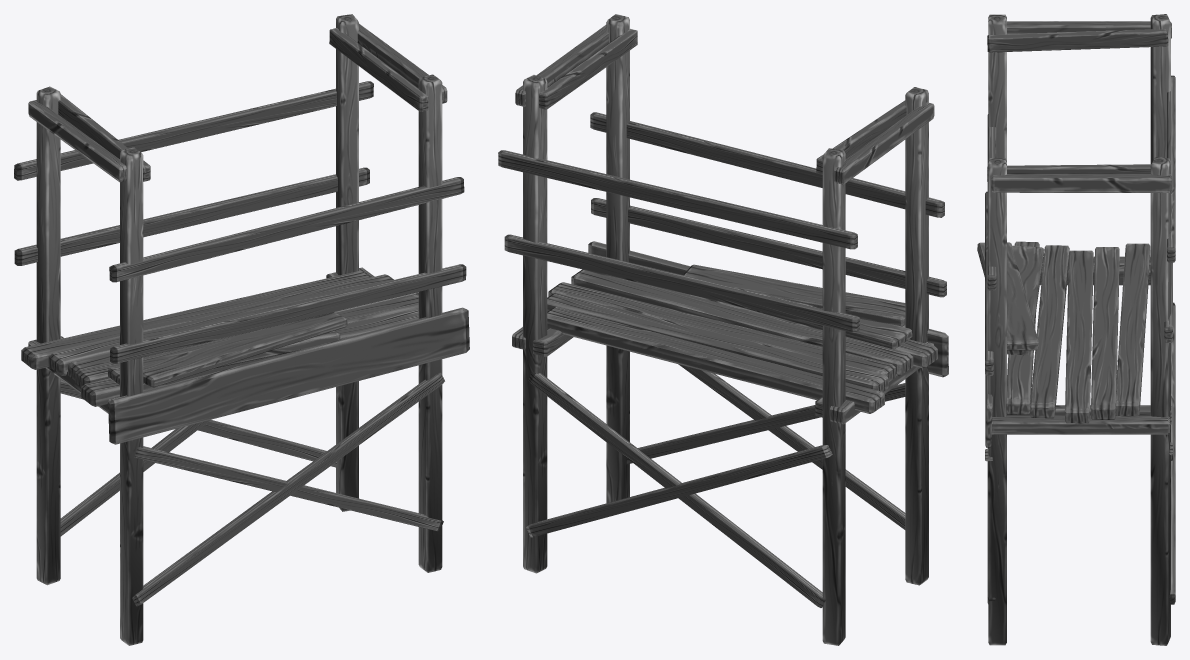
The model's file is SM_Plateforme02.FBX.
3 renders of one model, left to right at view 1: azimuth 30°, elevation 25°; view 2: azimuth 150°, elevation 25°; view 3: azimuth 270°, elevation 25°, orthographic.
Parts seen in each view (by area): view 1: Plateforme02; view 2: Plateforme02; view 3: Plateforme02.
Part boxes in pixels (bbox=[...]): Plateforme02: bbox=[14, 14, 469, 645]; Plateforme02: bbox=[498, 14, 948, 645]; Plateforme02: bbox=[977, 14, 1175, 645].
Bounding box in the file's own units: 397 × 506 × 189.
